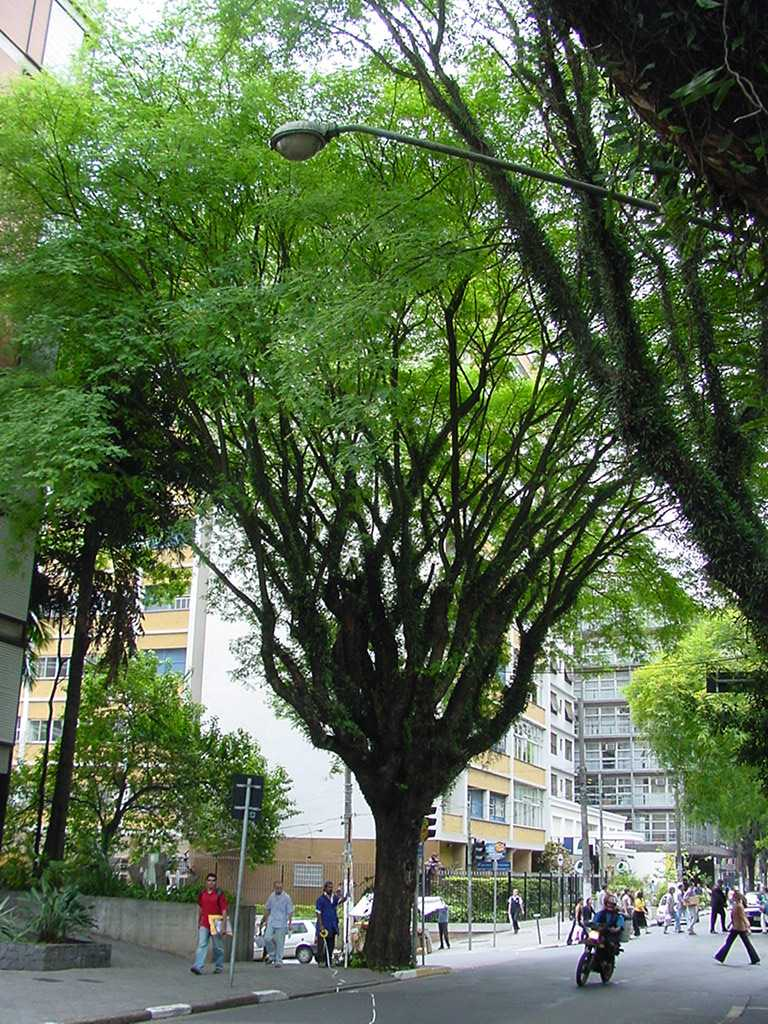crown: (11, 4, 707, 599)
stem: (355, 815, 443, 969)
stick: (332, 815, 359, 968)
tree: (6, 4, 710, 970), (12, 654, 288, 883)
